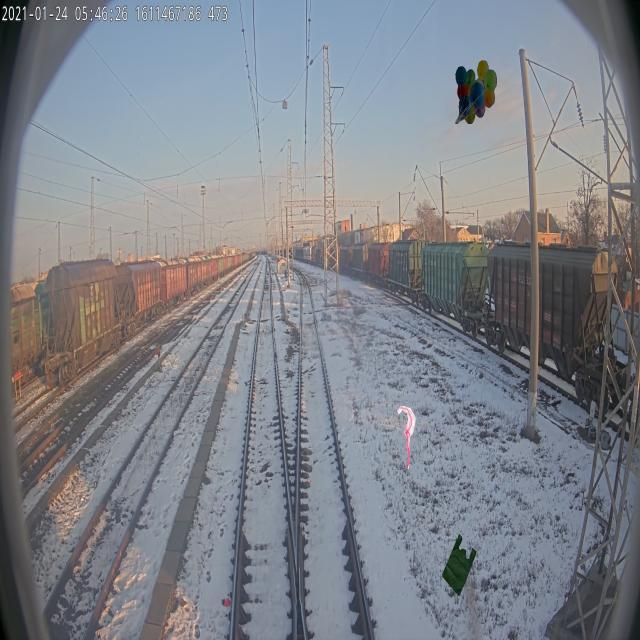balloon: (455, 60, 497, 124)
floating object: (397, 404, 416, 468)
plastic bag: (442, 534, 476, 598)
